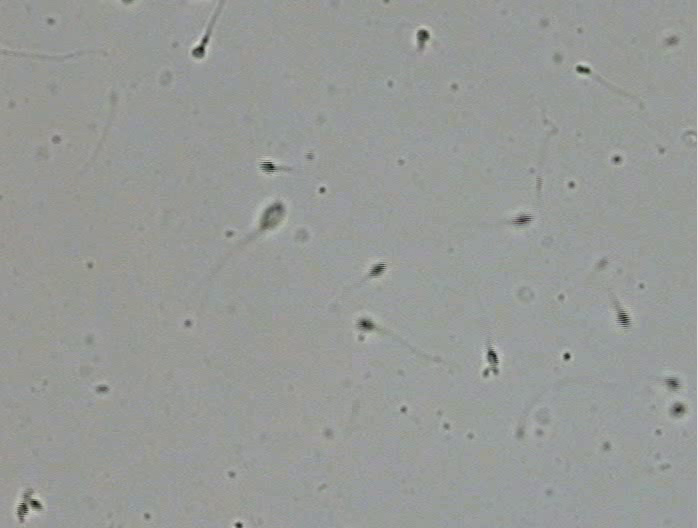S: (261, 202, 286, 229), (616, 310, 630, 329), (16, 502, 29, 522), (369, 263, 387, 277), (512, 214, 533, 226), (357, 318, 375, 331), (259, 160, 276, 173), (487, 349, 500, 366), (416, 29, 430, 44), (665, 376, 680, 390), (29, 499, 44, 511), (575, 64, 591, 75), (192, 46, 205, 59), (672, 403, 684, 417)
